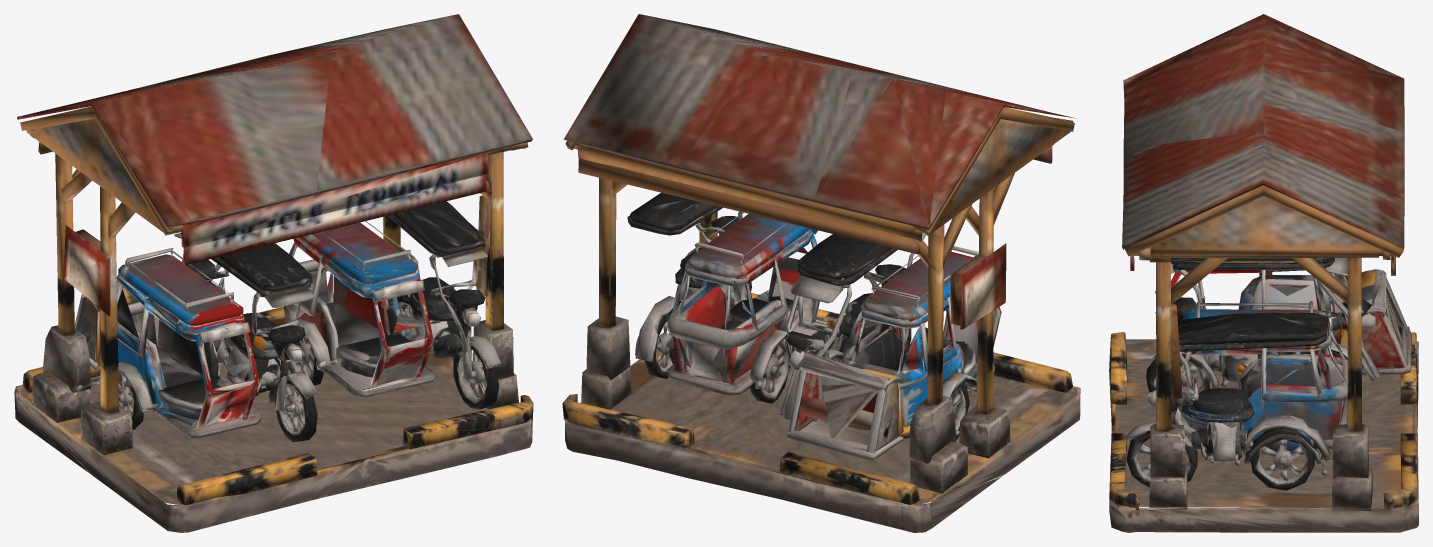
The model's file is tricycle_terminal.glb.
The picture shows the model from 3 angles, left to right: view 1: azimuth 30°, elevation 25°; view 2: azimuth 150°, elevation 25°; view 3: azimuth 270°, elevation 25°; orthographic projection. The views are drawn at different scales.
Parts seen in each view (by area): view 1: Mesh0; view 2: Mesh0; view 3: Mesh0.
Part boxes in pixels (bbox=[...]): Mesh0: bbox=[14, 14, 533, 532]; Mesh0: bbox=[562, 14, 1080, 532]; Mesh0: bbox=[1109, 14, 1418, 532].
Bounding box in the file's own units: 1 × 0.9746 × 0.7791.
Materials: 1 (1 with a texture image).
